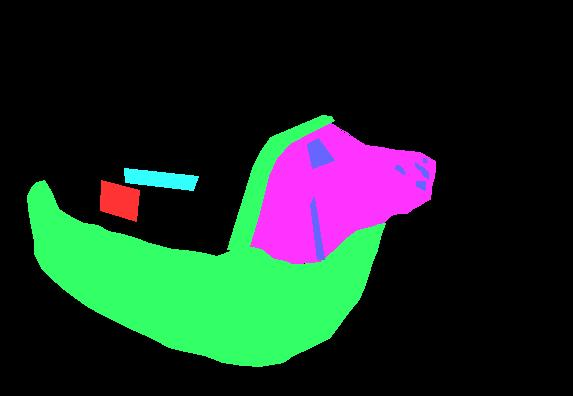Broken part: (27, 180, 385, 366), (227, 115, 334, 253)
Dent: (247, 121, 435, 264)
Flaking: (124, 168, 198, 190)
Missing part: (100, 180, 139, 221)
Scratch: (139, 300, 197, 331), (310, 197, 324, 259), (307, 138, 334, 168), (236, 331, 270, 354), (277, 345, 304, 359), (415, 162, 428, 179), (115, 311, 133, 322), (395, 165, 405, 174), (416, 181, 425, 190), (423, 158, 427, 162)
